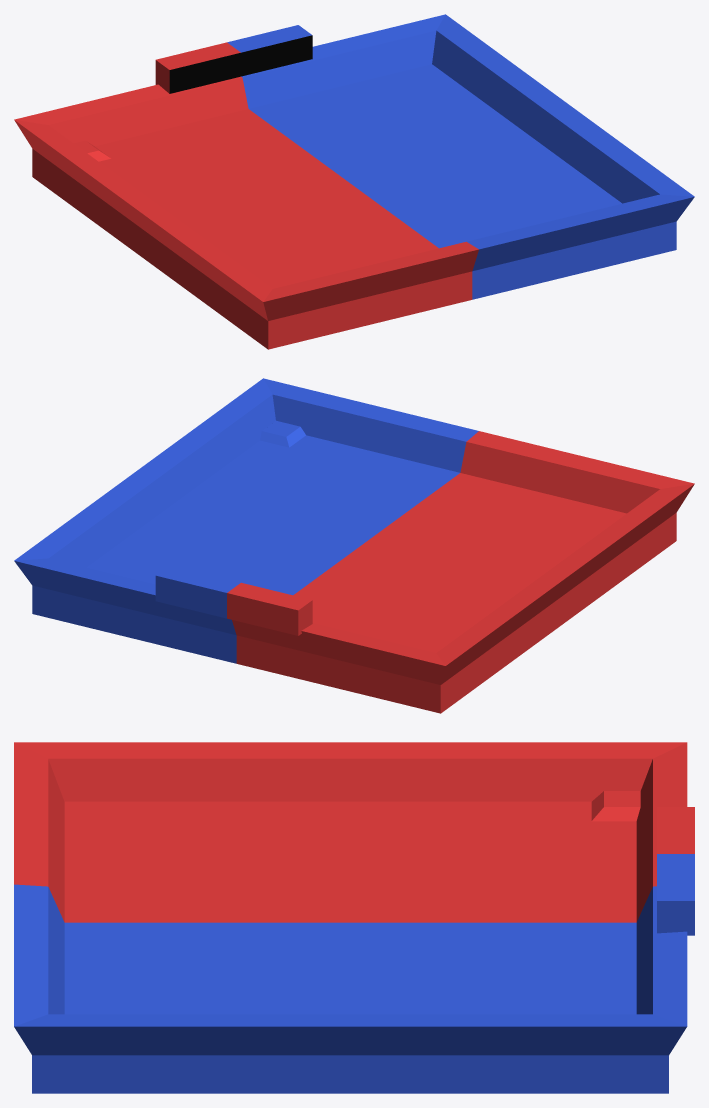
File: GadePart1Arena.fbx
The picture shows the model from 3 angles, top to bottom: view 1: azimuth 30°, elevation 25°; view 2: azimuth 150°, elevation 25°; view 3: azimuth 270°, elevation 25°; orthographic projection. The views are drawn at different scales.
Parts seen in each view (by area): view 1: Cube; view 2: Cube; view 3: Cube.
Boxes of the visible parts, box(x1,y1,x2,y2) form: Cube: box(14, 14, 694, 349); Cube: box(14, 378, 694, 713); Cube: box(14, 742, 694, 1093).
Size of the model in its own units: 35.3 by 6.08 by 35.71.
